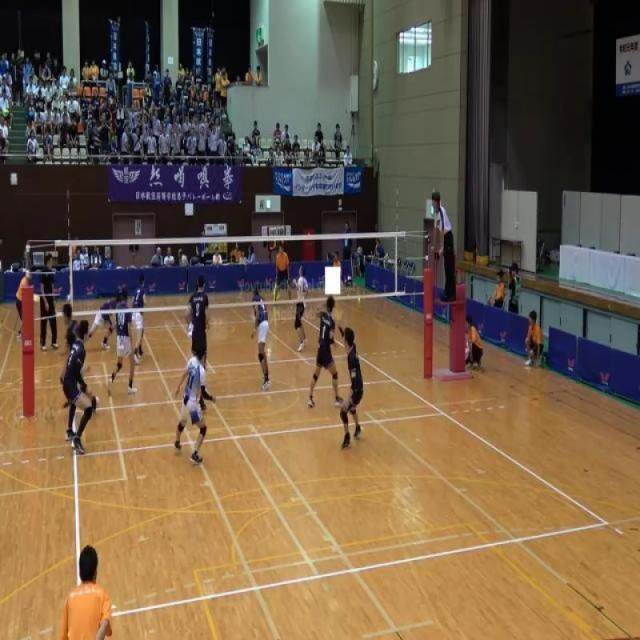volleyball: (181, 254, 188, 265), (66, 294, 70, 302)
